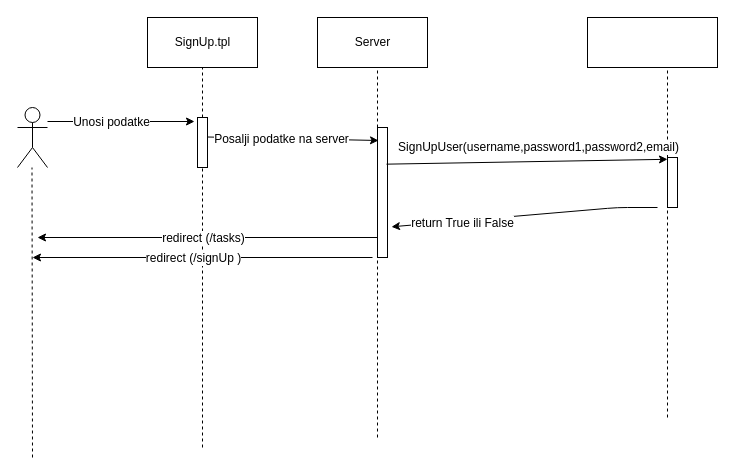
Some shapes in this 735 by 476 pixel diagram are drawn without their labels. Here are the shapes that lost their labels. From the top down, the centre of each, then its label:
At point 652,42: "database_methods.py".
At point 32,137: "User".
